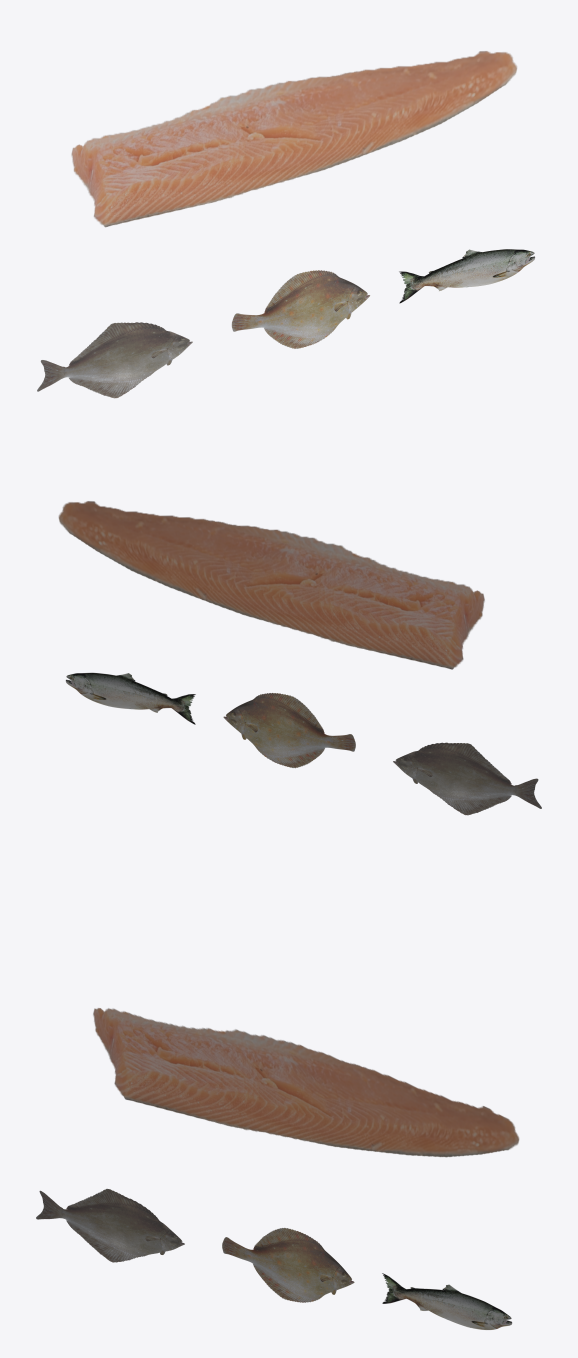
Rendered from Game_Fish_02.glb.
3 views of the same model, one above another, from view 1: azimuth 30°, elevation 25°; view 2: azimuth 150°, elevation 25°; view 3: azimuth 330°, elevation 25° (orthographic). The views are drawn at different scales.
Visible parts, largest first — view 1: SalmonFillet, Halibut, Flatfish, Salmon; view 2: SalmonFillet, Halibut, Flatfish, Salmon; view 3: SalmonFillet, Halibut, Flatfish, Salmon.
Boxes of the visible parts, x1,y1,x2,y2 form: SalmonFillet: (71,51,517,227); Halibut: (37,322,192,398); Flatfish: (231,270,369,348); Salmon: (399,249,534,303); SalmonFillet: (58,501,484,669); Halibut: (393,742,541,815); Flatfish: (223,693,355,768); Salmon: (65,672,195,724); SalmonFillet: (93,1008,519,1157); Halibut: (36,1189,184,1262); Flatfish: (222,1227,354,1302); Salmon: (382,1273,511,1329).
Size of the model in its own units: 7.36 by 4.95 by 0.2877.
4 materials, 4 textured.
